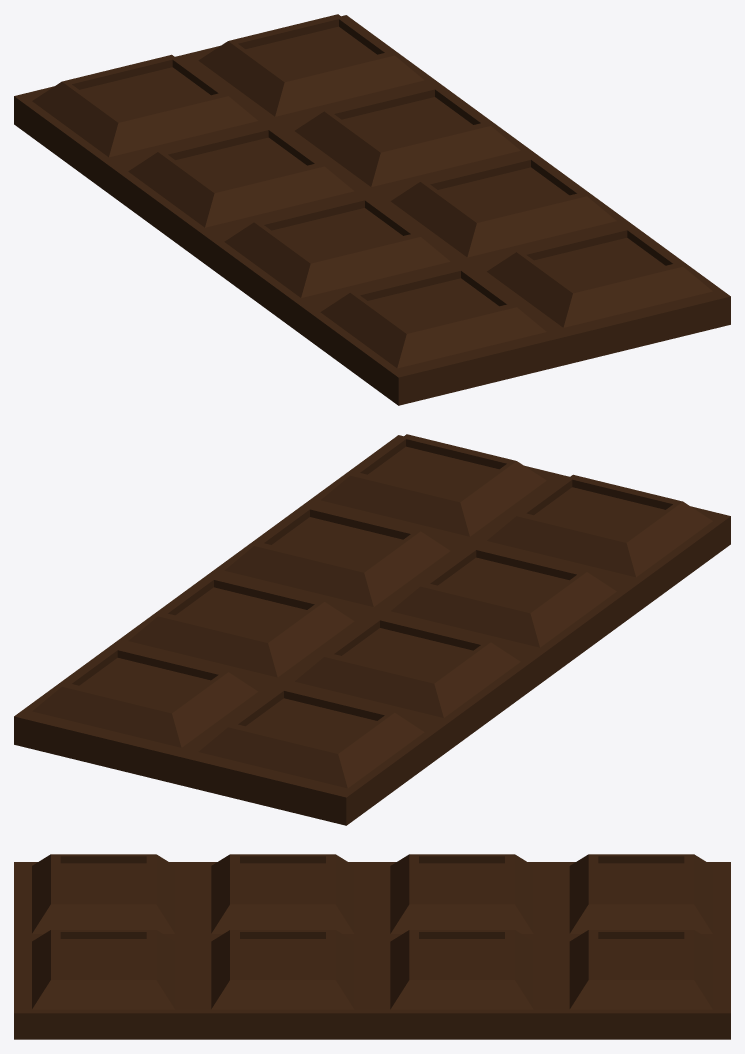
Rendered from choco.fbx.
3 renders of one model, top to bottom at view 1: azimuth 30°, elevation 25°; view 2: azimuth 150°, elevation 25°; view 3: azimuth 270°, elevation 25°, orthographic. The views are drawn at different scales.
Parts seen in each view (by area): view 1: Plane; view 2: Plane; view 3: Plane.
Boxes of the visible parts, bbox=[...] form: Plane: bbox=[14, 14, 730, 405]; Plane: bbox=[14, 434, 730, 825]; Plane: bbox=[14, 854, 730, 1039].
Size of the model in its own units: 198 by 28.75 by 397.
